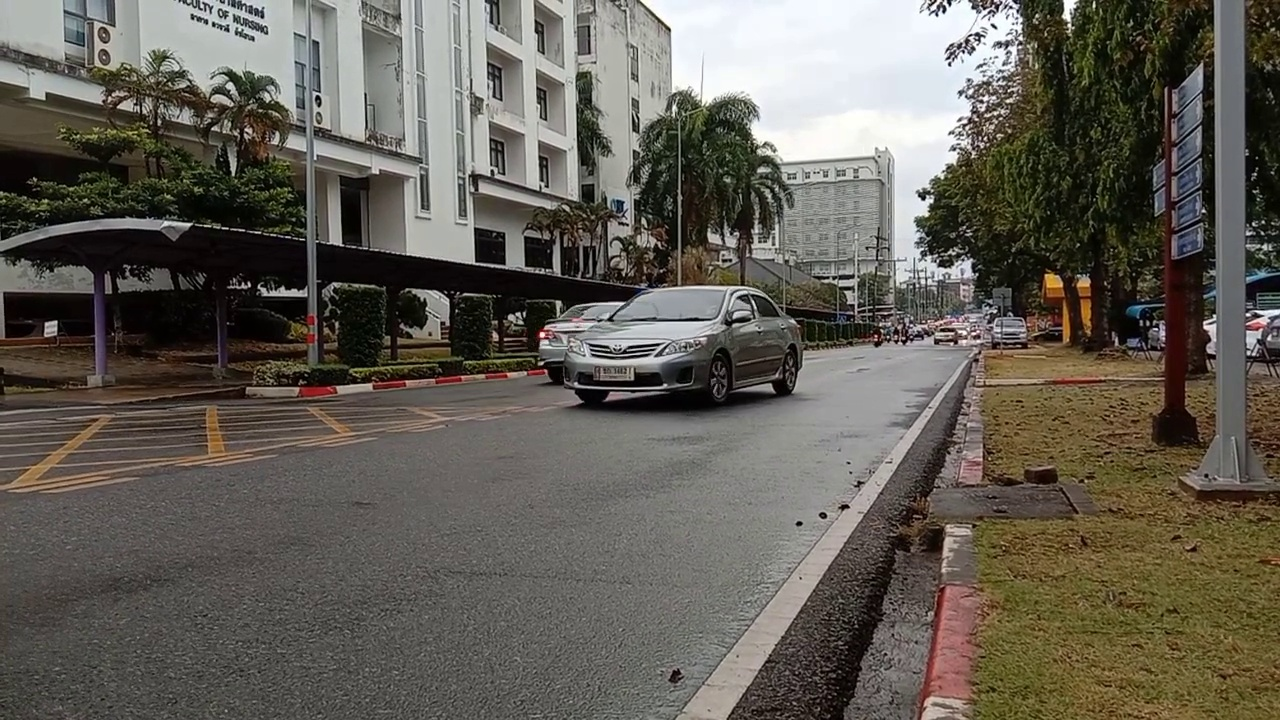License Plate: (591, 366, 634, 384)
